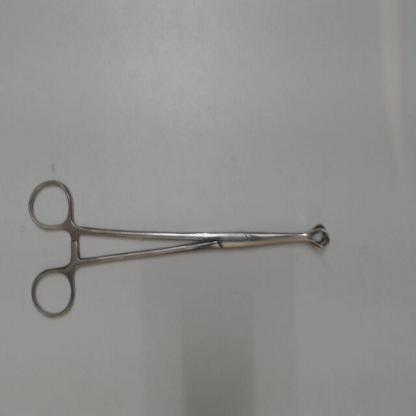8 Babcock Tissue Forceps: (24, 171, 337, 324)
